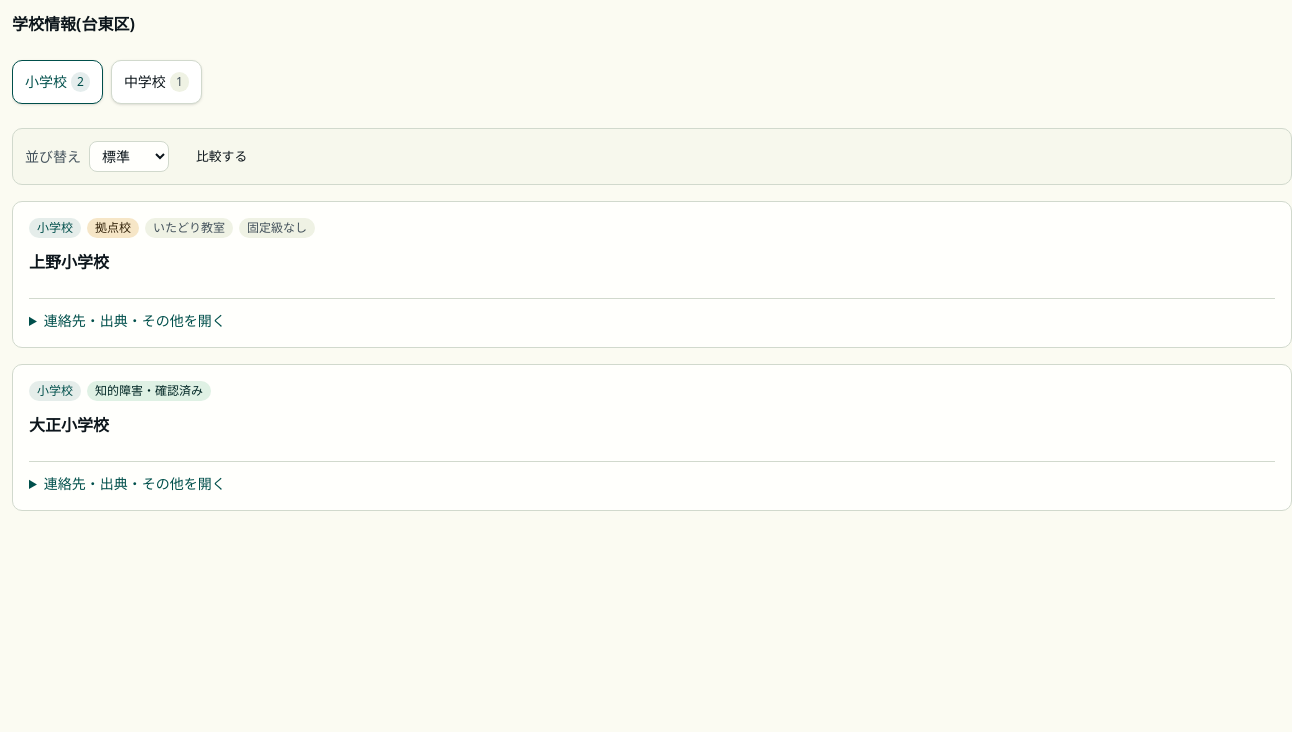
Test: SchoolInfoSection: 分類バッジのクリックによる絞り込み › 絞り込み中のチップをクリックすると解除され、同じサブタブ内の元の一覧に戻る
The width and height of the screenshot is (1292, 732).
Click the button "いたどり教室": (189, 228) [145,218,233,238]
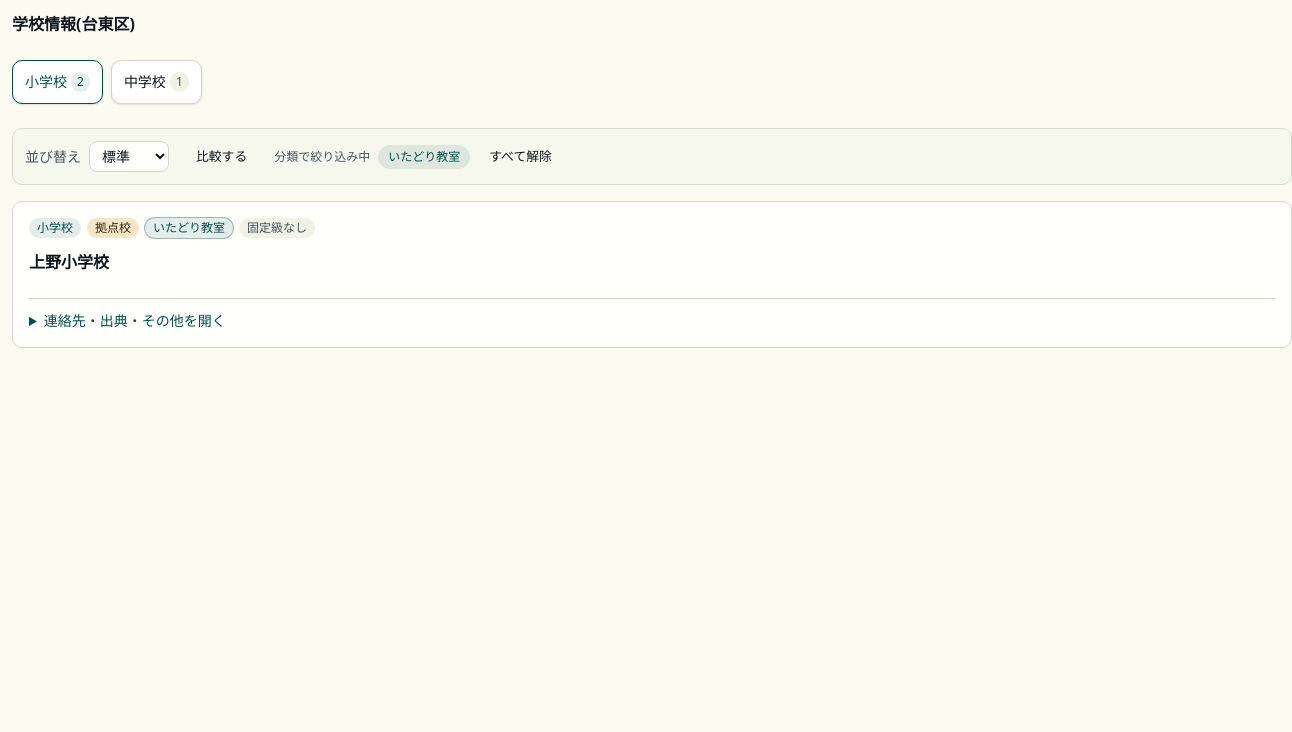
Click the button with aria-label "いたどり教室の絞り込みを解除": (424, 156) [378,144,470,168]
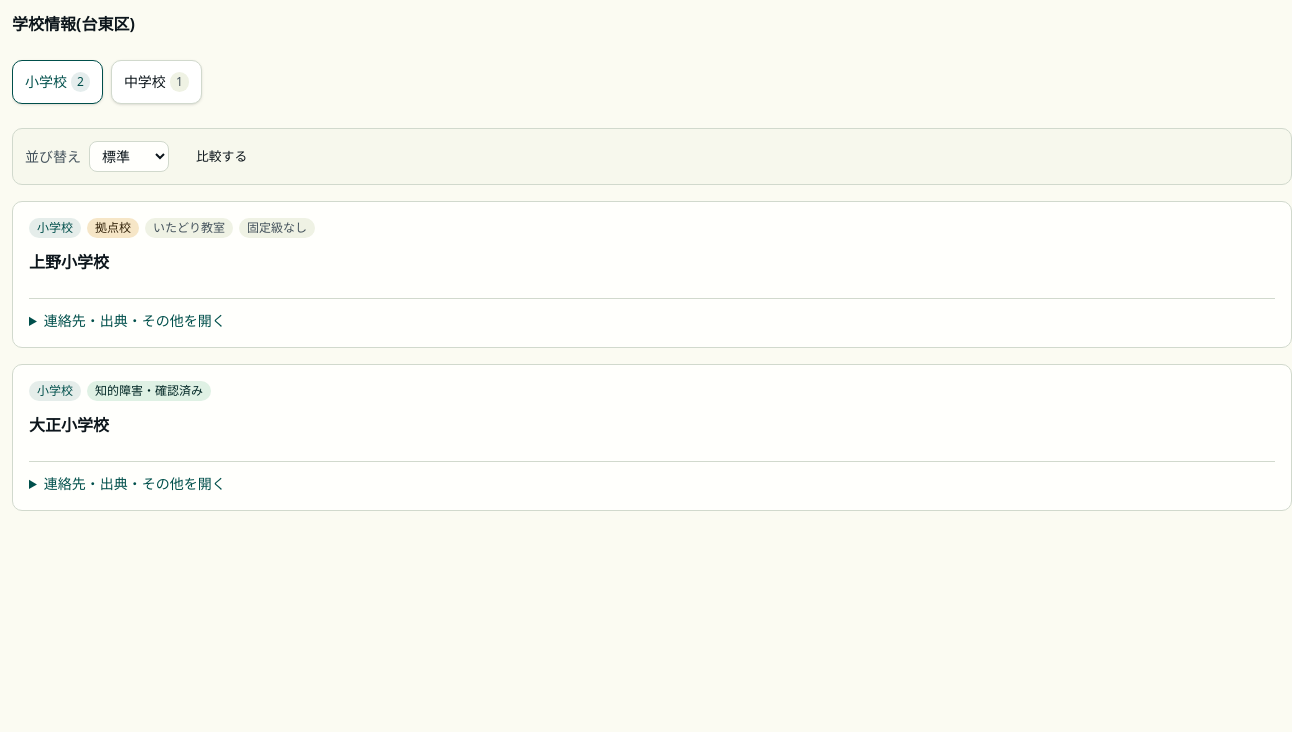
expect the heading "上野小学校" is shown: met, box [29,251,109,273]
expect the heading "大正小学校" is shown: met, box [29,414,109,436]
expect the button "いたどり教室の絞り込みを解除" is gone: met
